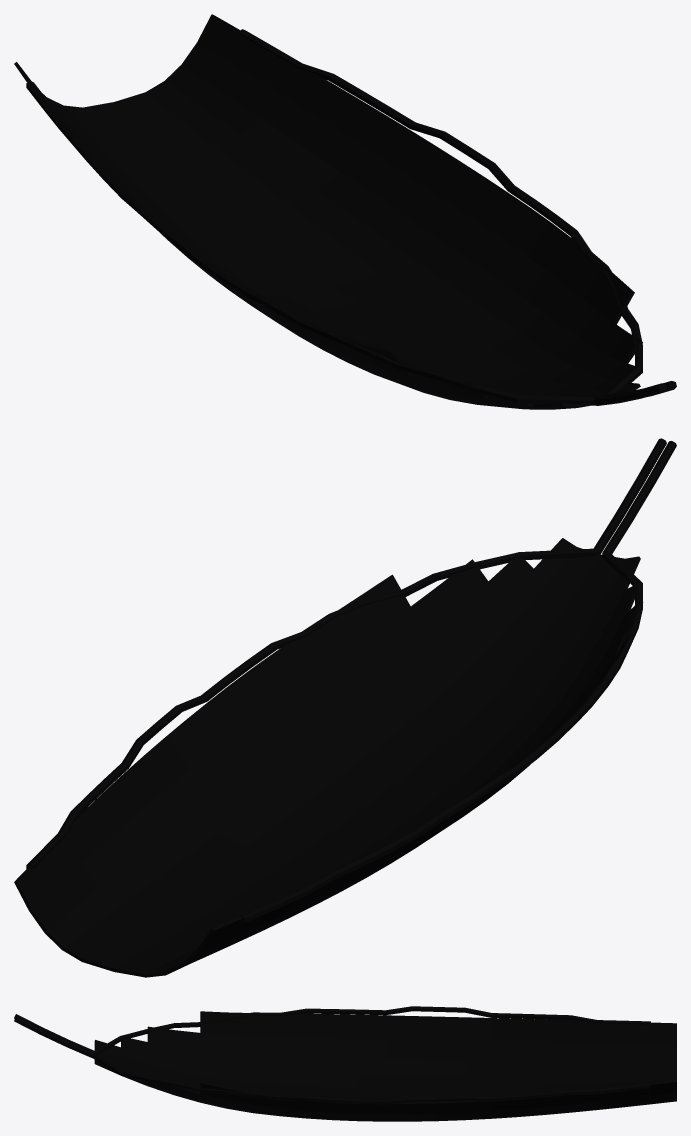
The model's file is upgrade_copper_banded_hull.unity-fbx.fbx.
3 renders of one model, top to bottom at view 1: azimuth 30°, elevation 25°; view 2: azimuth 150°, elevation 25°; view 3: azimuth 270°, elevation 25°, orthographic. The views are drawn at different scales.
Visible parts, largest first — view 1: upgrade_copper_banded_hull_mesh; view 2: upgrade_copper_banded_hull_mesh; view 3: upgrade_copper_banded_hull_mesh.
Boxes of the visible parts, x1=… form: upgrade_copper_banded_hull_mesh: x1=14, y1=14, x2=676, y2=409; upgrade_copper_banded_hull_mesh: x1=14, y1=438, x2=676, y2=977; upgrade_copper_banded_hull_mesh: x1=14, y1=1006, x2=676, y2=1121.
Size of the model in its own units: 3.2 by 1.44 by 9.64.
Materials: 1 (1 with a texture image).
